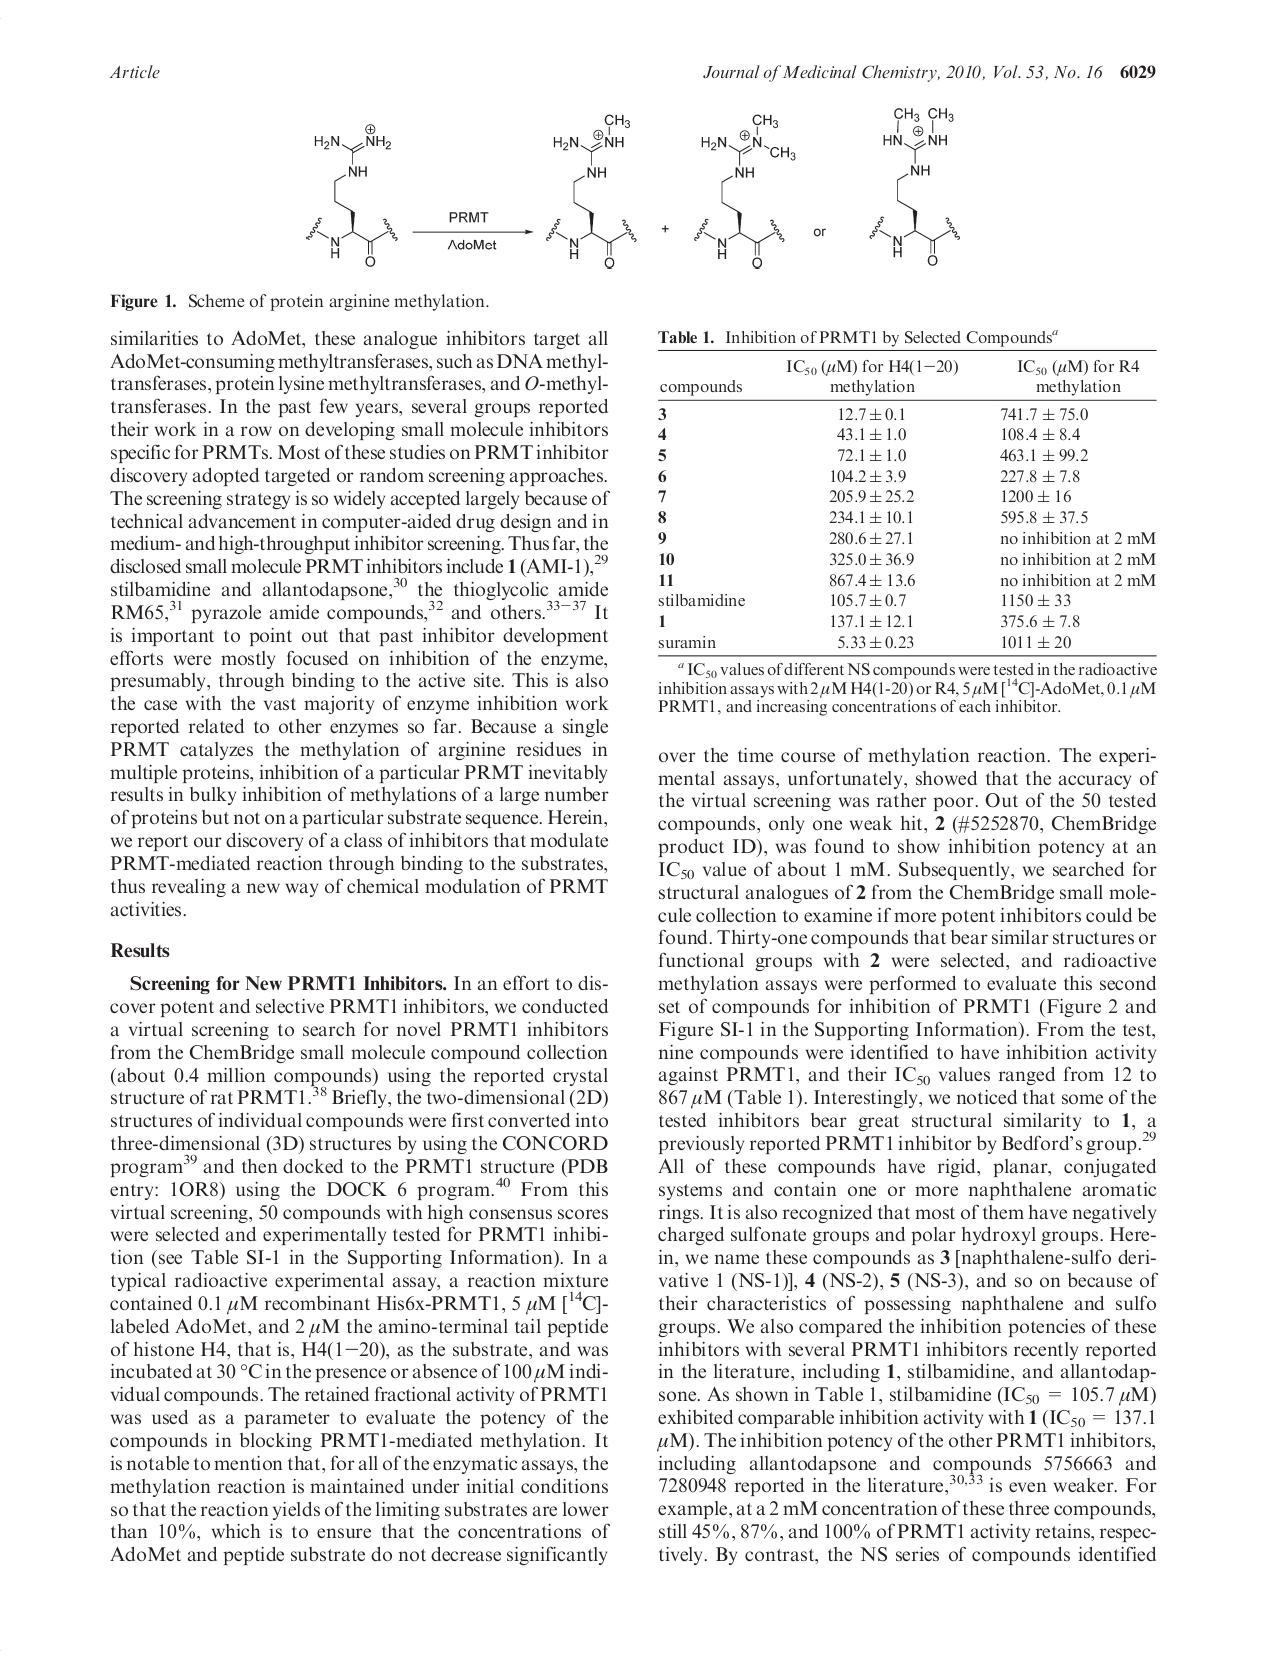exist_molecular: (693, 112, 801, 270), (867, 102, 961, 266), (544, 110, 638, 270), (303, 122, 403, 269)
